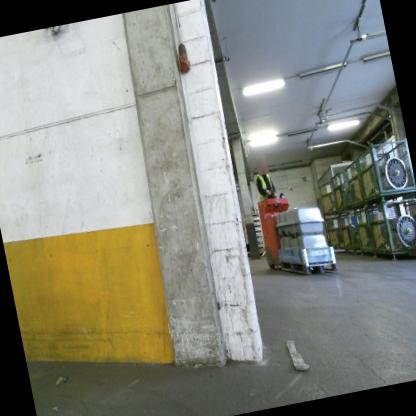pallet: (277, 249, 339, 283)
pallet_truck: (249, 187, 306, 276)
stillage: (353, 135, 416, 207), (340, 146, 398, 211), (366, 195, 416, 266), (363, 199, 414, 263), (337, 206, 379, 257), (328, 166, 361, 216), (352, 206, 375, 259), (315, 178, 339, 218), (322, 215, 345, 255)
